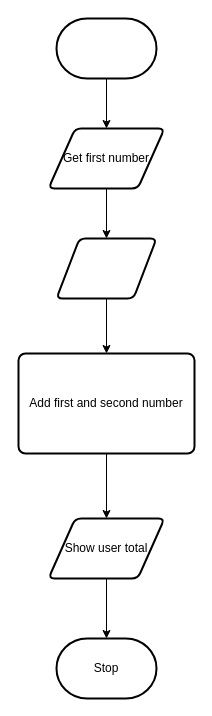
This 212x716 diagram has some shape labels left out. The shapes that lost their labels are listed below. From the top down, each one's centre as x and y in pixels, then its label:
At point (106, 48): "Start".
At point (106, 268): "Get second number".
